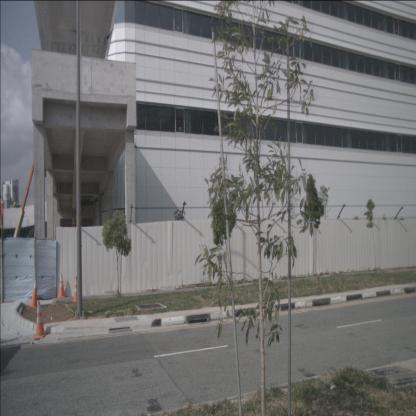movable_object-trafficcone: (33, 301, 47, 340), (29, 278, 40, 309), (72, 275, 80, 303), (58, 273, 66, 298)
